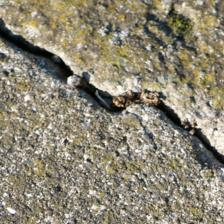Crack: (2, 9, 220, 156)
